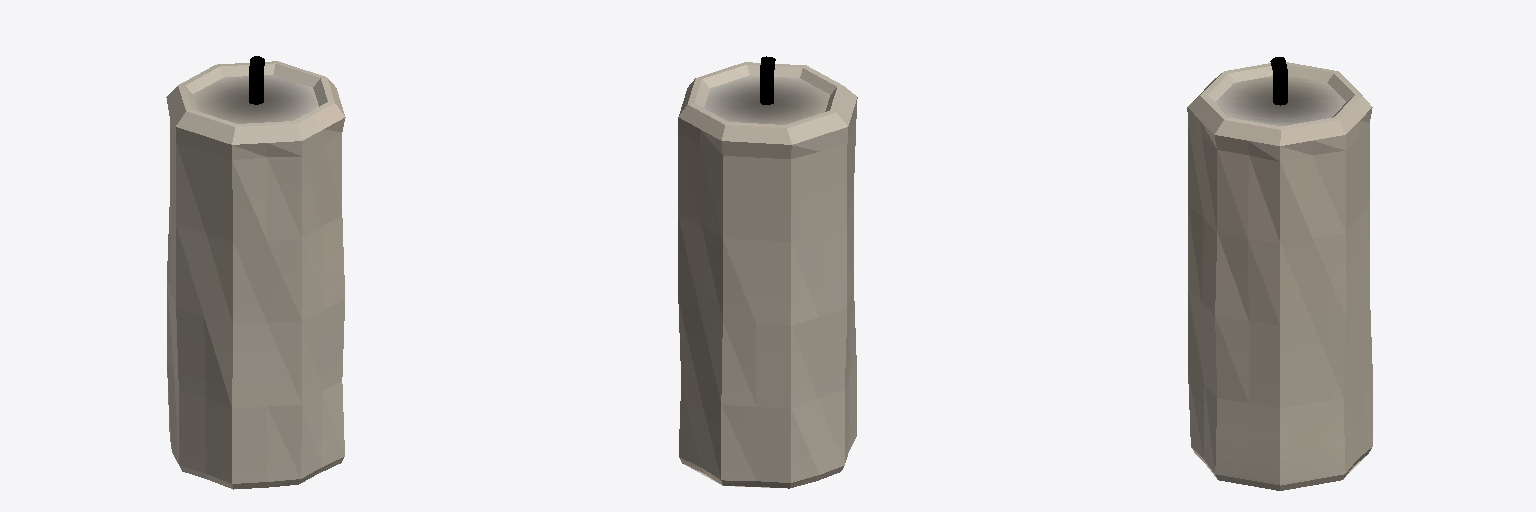
The picture shows the model from 3 angles: view 1: azimuth 30°, elevation 25°; view 2: azimuth 150°, elevation 25°; view 3: azimuth 270°, elevation 25°; orthographic projection.
Parts seen in each view (by area): view 1: Cylinder; view 2: Cylinder; view 3: Cylinder.
Boxes of the visible parts, <box> form: Cylinder: <box>166,56,345,489</box>; Cylinder: <box>678,56,857,488</box>; Cylinder: <box>1187,57,1372,490</box>.
Size of the model in its own units: 0.4386 by 1.03 by 0.4386.
1 materials, 1 textured.